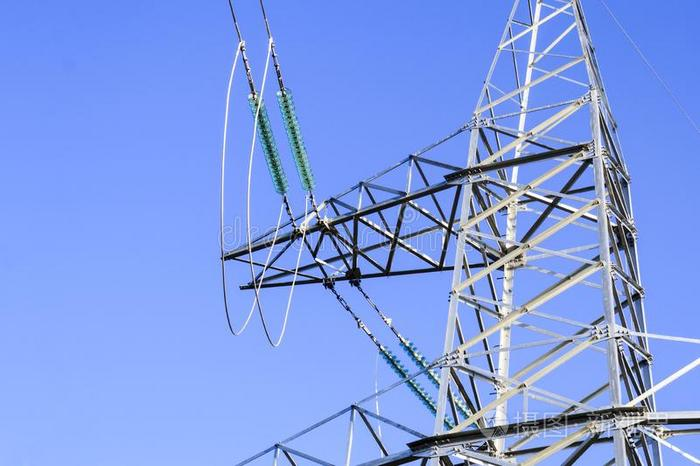insulator: (383, 338, 467, 424), (246, 90, 315, 194)
